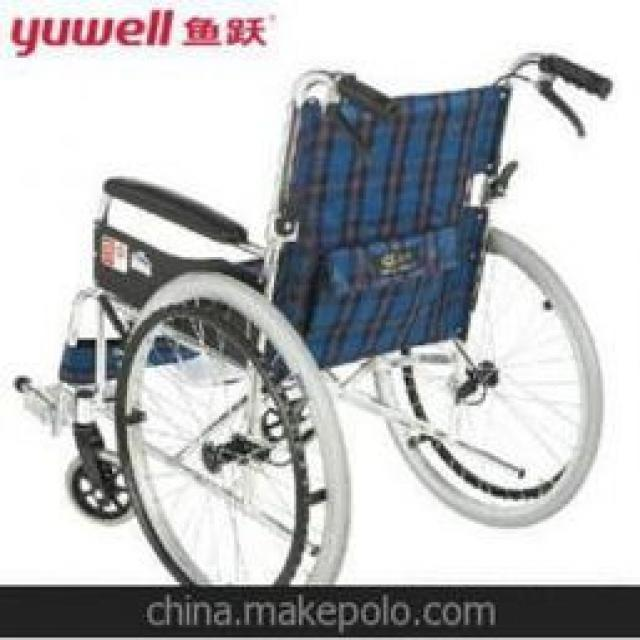wheelchairs: (15, 56, 613, 583)
